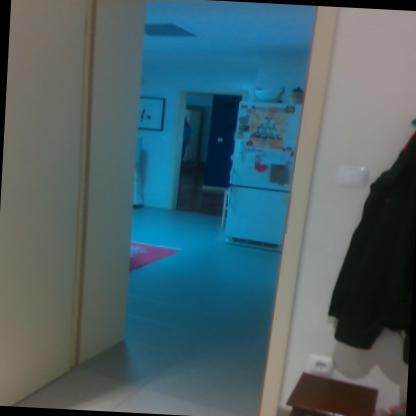open: (0, 0, 341, 415), (166, 85, 249, 224)
